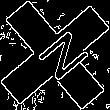N_SW: (23, 23, 87, 87)
